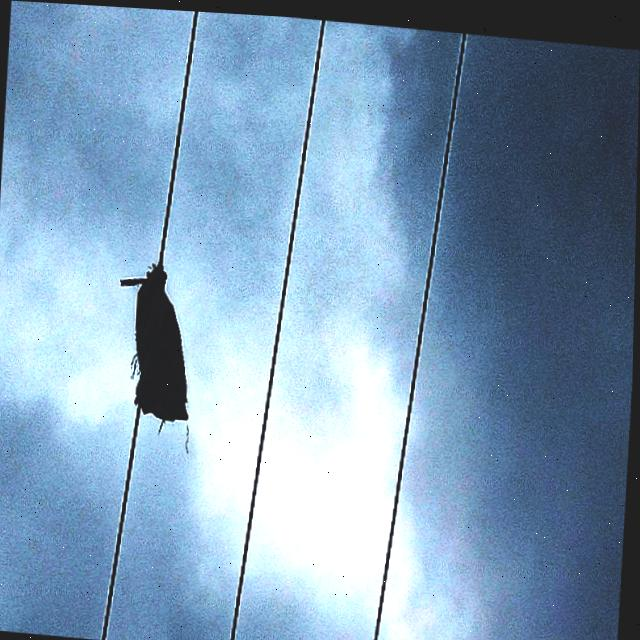obstruction: (114, 246, 199, 433)
wires: (226, 19, 329, 640), (369, 26, 470, 640), (156, 12, 208, 256), (98, 406, 147, 630)
